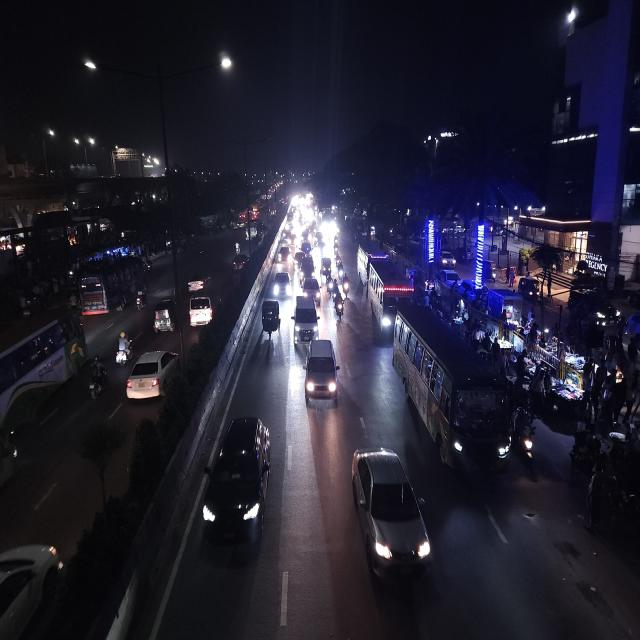bus: (390, 301, 512, 481), (0, 306, 87, 428), (364, 256, 412, 342), (78, 258, 128, 316)
car: (348, 441, 434, 595), (201, 410, 273, 561), (0, 537, 69, 639), (126, 344, 182, 408), (303, 336, 339, 408), (292, 293, 319, 348), (187, 284, 217, 332), (301, 276, 322, 308), (272, 269, 292, 299), (457, 276, 477, 300), (186, 273, 209, 293), (232, 250, 250, 274), (274, 243, 292, 267), (438, 250, 457, 270), (298, 257, 314, 280)
cng: (258, 296, 282, 350), (152, 296, 176, 337), (319, 256, 333, 279)
motorcycle: (513, 408, 541, 474), (88, 354, 109, 405), (114, 328, 132, 366), (134, 285, 148, 313), (334, 290, 344, 326), (340, 274, 351, 302), (233, 238, 241, 253)
